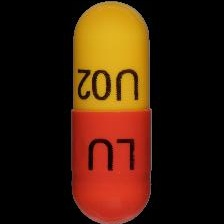68180-315: (0, 0, 224, 224)
